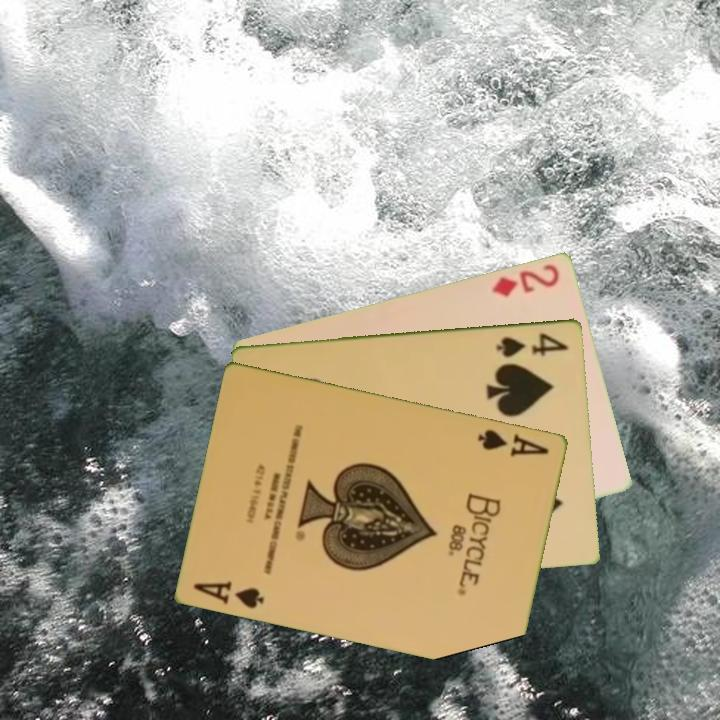2d: (488, 260, 563, 300)
4s: (492, 328, 572, 360)
As: (474, 425, 552, 459), (190, 577, 268, 611)
